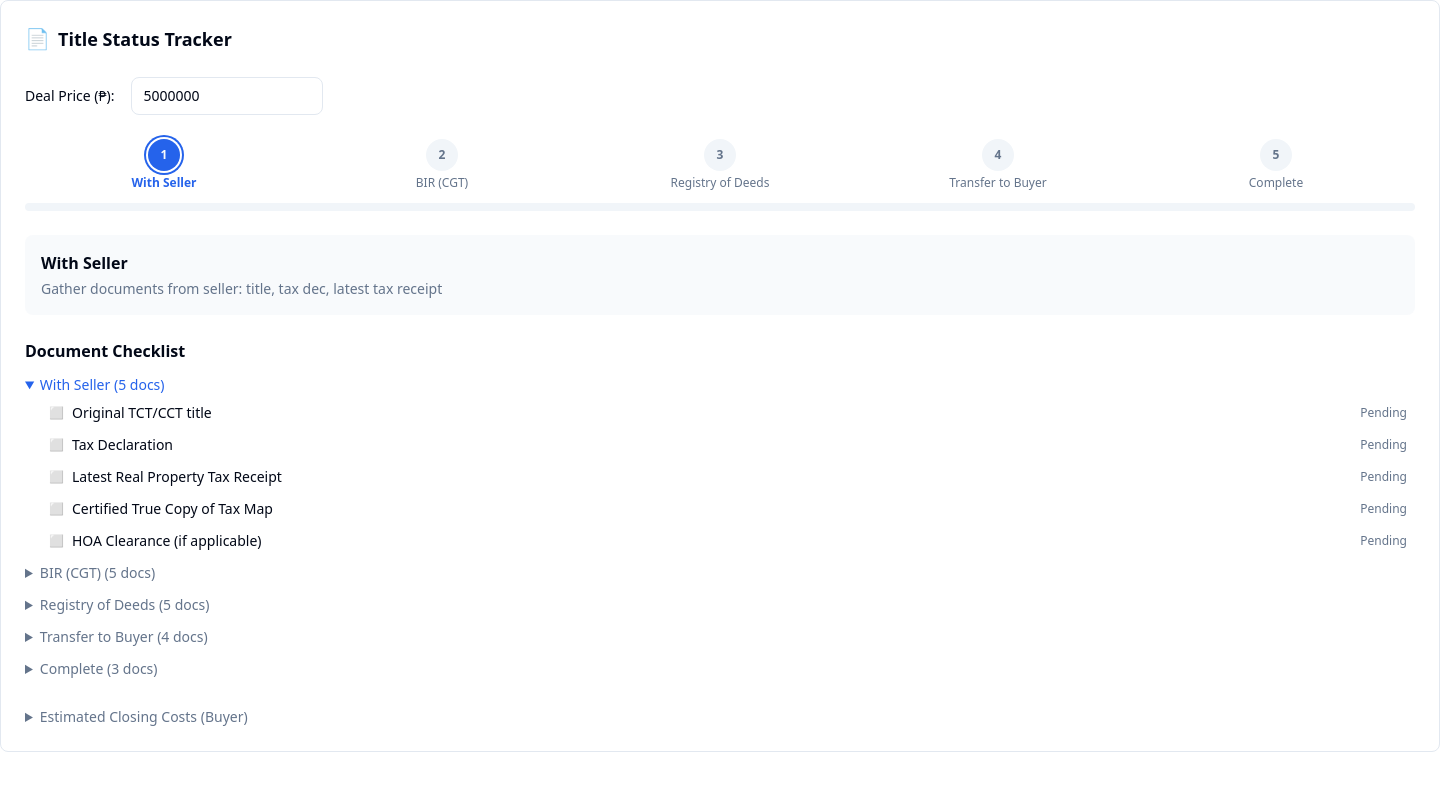
TitleStatusTracker › advances stage when clicking BIR stage button
What coordinates should you click on to do the following:
click the button "2"
I would click on:
 (442, 155)
Its box is x1=426 y1=139 x2=458 y2=171.
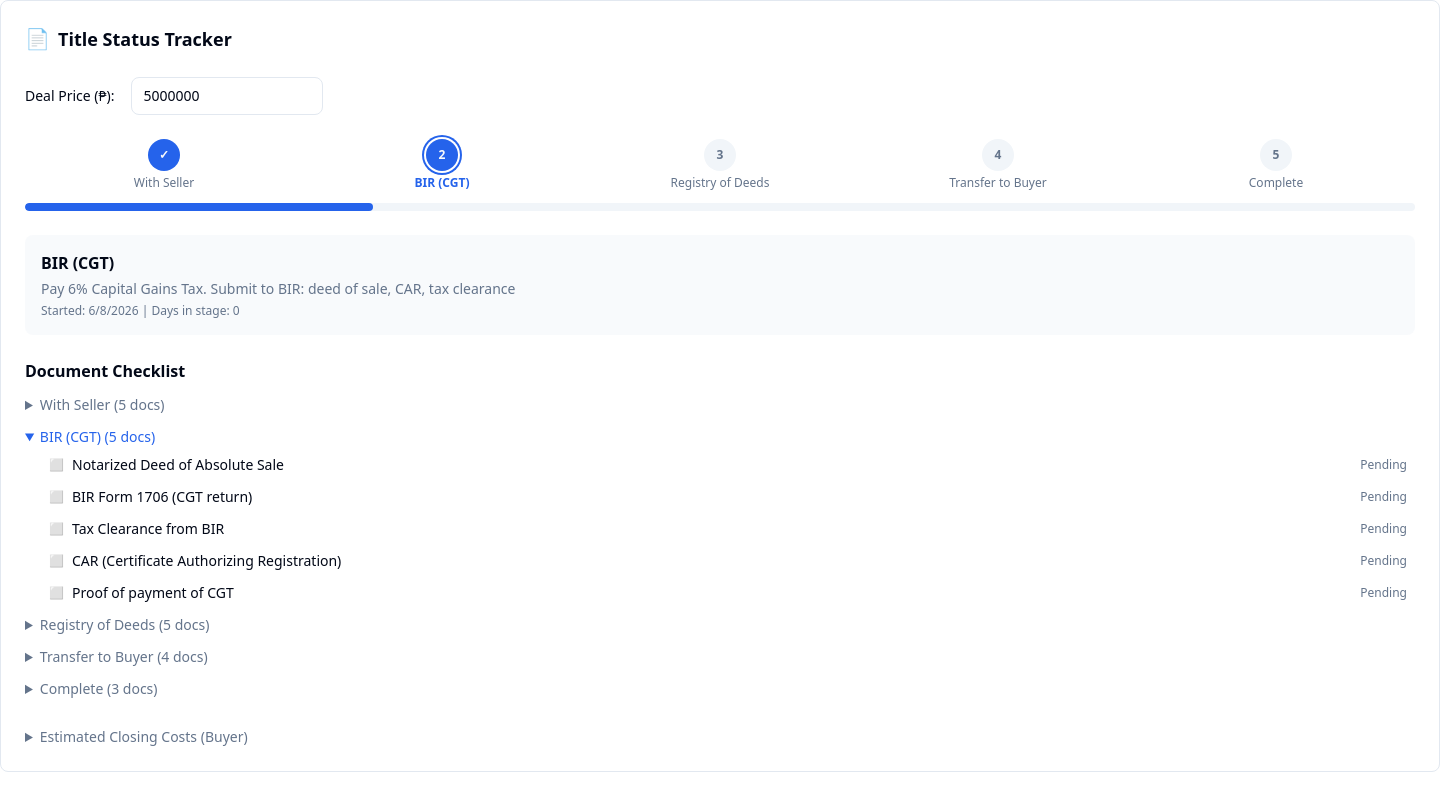
Expected: the text "Pay 6% Capital Gains Tax" is shown, x1=41 y1=279 x2=516 y2=298
